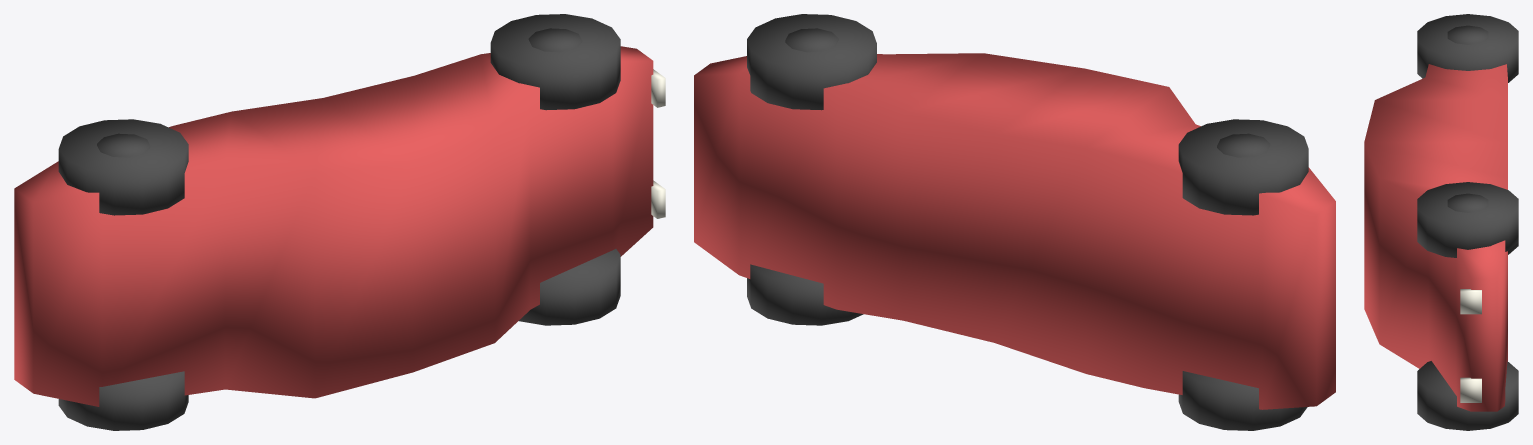
File: car.glb
3 views of the same model, side by side, from view 1: azimuth 30°, elevation 25°; view 2: azimuth 150°, elevation 25°; view 3: azimuth 270°, elevation 25° (orthographic). The views are drawn at different scales.
Parts seen in each view (by area): view 1: body, wheel_0, wheel_2, wheel_1, wheel_3; view 2: body, wheel_0, wheel_2, wheel_1, wheel_3; view 3: body, wheel_2, wheel_0, wheel_3, headlight_r, headlight_l.
Part boxes in pixels (x1,y1,x2,y2): body: [14, 46, 653, 406]; wheel_0: [58, 119, 188, 215]; wheel_2: [490, 14, 620, 110]; wheel_1: [58, 371, 188, 430]; wheel_3: [519, 249, 620, 325]; body: [694, 53, 1335, 409]; wheel_0: [1178, 119, 1308, 215]; wheel_2: [747, 14, 876, 110]; wheel_1: [1178, 371, 1307, 430]; wheel_3: [747, 264, 863, 325]; body: [1364, 64, 1507, 411]; wheel_2: [1417, 182, 1518, 257]; wheel_0: [1417, 14, 1518, 82]; wheel_3: [1417, 361, 1518, 430]; headlight_r: [1460, 377, 1481, 402]; headlight_l: [1460, 289, 1481, 314].
Size of the model in its own units: 3.78 by 1.5 by 1.01.
